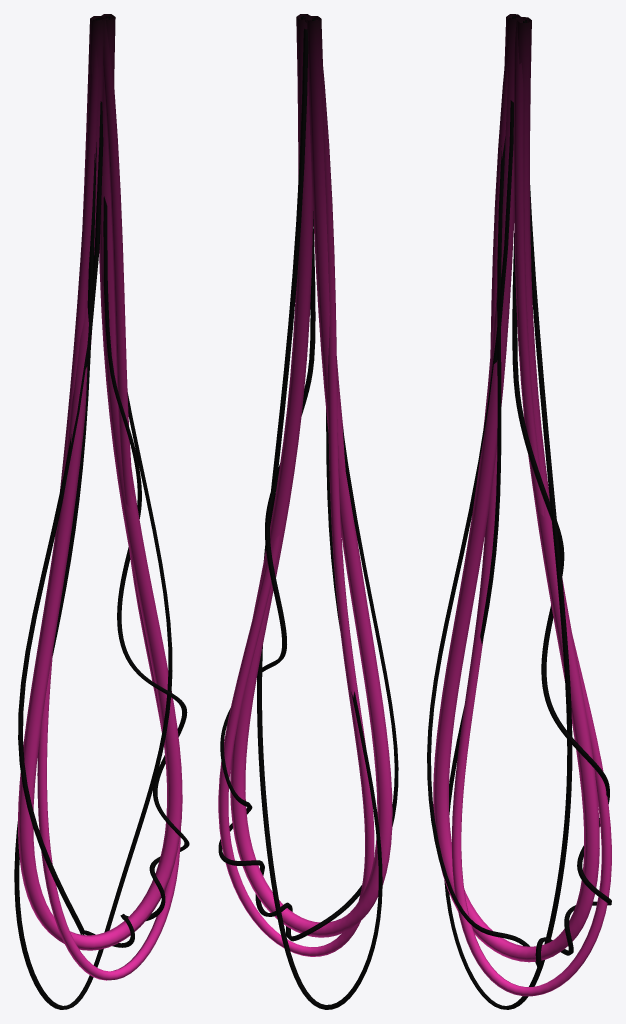
The model's file is cable.glb.
3 renders of one model, left to right at view 1: azimuth 30°, elevation 25°; view 2: azimuth 150°, elevation 25°; view 3: azimuth 330°, elevation 25°, orthographic. The views are drawn at different scales.
Parts seen in each view (by area): view 1: cables; view 2: cables; view 3: cables.
Boxes of the visible parts, x1,y1,x2,y2 form: cables: (14, 14, 189, 1009); cables: (218, 14, 398, 1009); cables: (427, 14, 611, 1009).
Bounding box in the file's own units: 0.3879 × 2.12 × 0.123.
